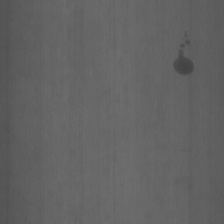oil_spot: (169, 32, 199, 81)
